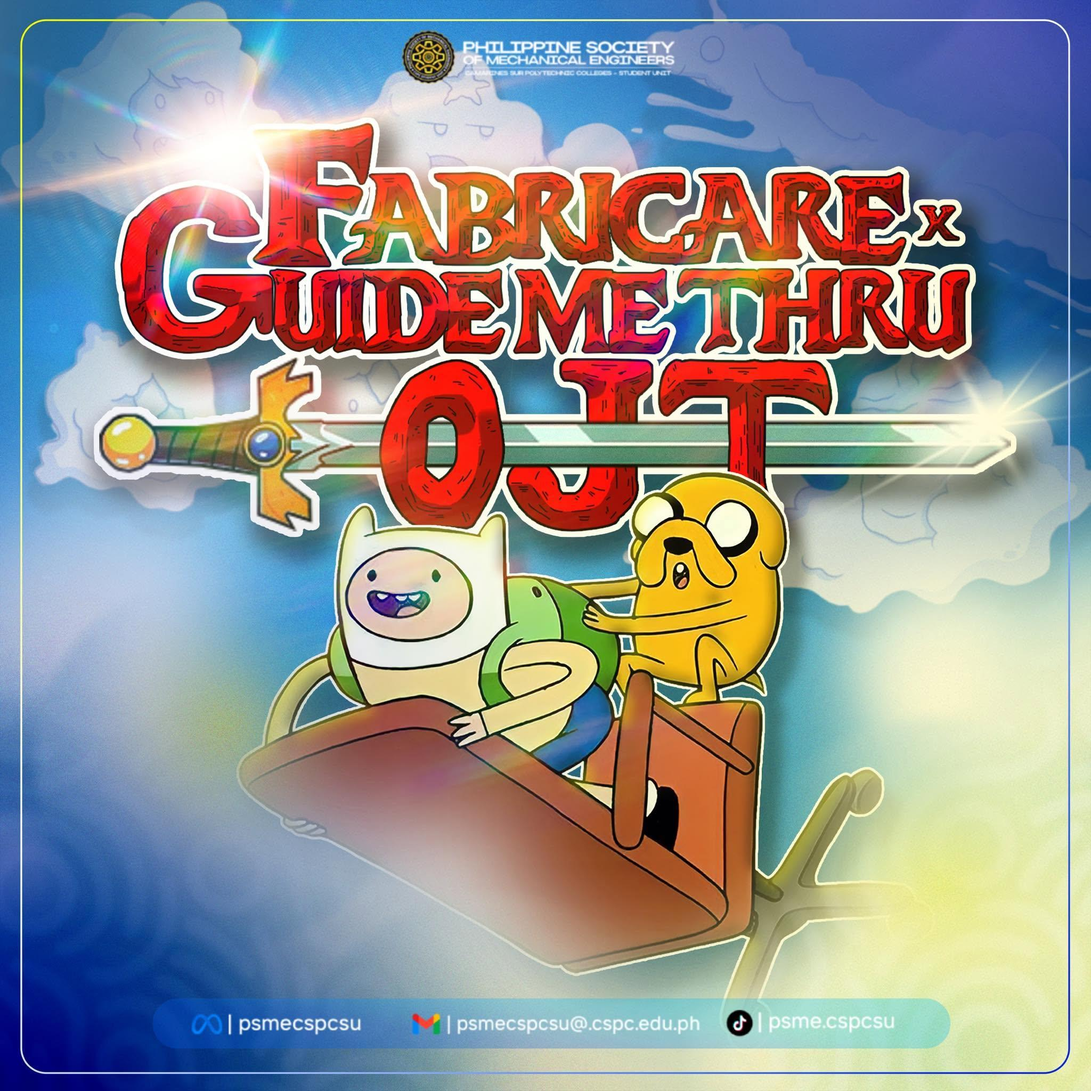embellishment: (234, 466, 930, 995), (83, 353, 1024, 543), (137, 81, 330, 225), (879, 361, 1079, 487), (408, 1008, 444, 1041), (189, 1008, 225, 1040), (721, 1005, 754, 1039)
logo: (400, 28, 457, 84)
text: (101, 115, 991, 543), (460, 37, 682, 81), (444, 1011, 709, 1038), (754, 1007, 901, 1037), (226, 1011, 367, 1040)
underlay: (154, 996, 951, 1051)
